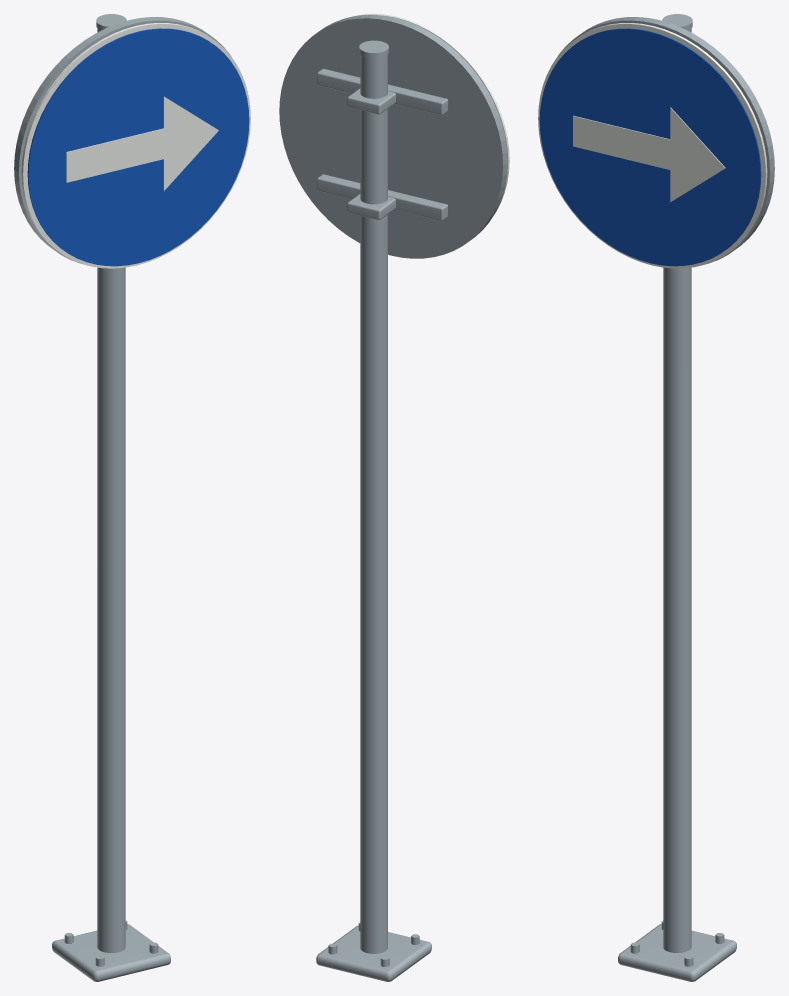
The model's file is DS_Sign_Right.fbx.
3 renders of one model, left to right at view 1: azimuth 30°, elevation 25°; view 2: azimuth 150°, elevation 25°; view 3: azimuth 330°, elevation 25°, orthographic. The views are drawn at different scales.
Visible parts, largest first — view 1: Face_Field.010, Post.010, DirectionArrow.001, BasePlate.010, Face_Border.010, Plate_Back.010; view 2: Plate_Back.010, Post.010, BasePlate.010, RearRail.021, RearRail.020, PostClamp.021, PostClamp.020, Face_Border.010; view 3: Face_Field.010, Post.010, DirectionArrow.001, BasePlate.010, Face_Border.010, Plate_Back.010.
Part boxes in pixels (left/top/right/bottom): Face_Field.010: left=27, top=28, right=249, bottom=266; Post.010: left=97, top=28, right=125, bottom=952; DirectionArrow.001: left=66, top=96, right=218, bottom=190; BasePlate.010: left=52, top=924, right=170, bottom=981; Face_Border.010: left=21, top=23, right=250, bottom=268; Plate_Back.010: left=14, top=17, right=230, bottom=263; Plate_Back.010: left=279, top=15, right=507, bottom=258; Post.010: left=360, top=55, right=387, bottom=953; BasePlate.010: left=316, top=925, right=431, bottom=981; RearRail.021: left=317, top=68, right=448, bottom=115; RearRail.020: left=317, top=174, right=448, bottom=220; PostClamp.021: left=347, top=88, right=395, bottom=114; PostClamp.020: left=347, top=194, right=395, bottom=219; Face_Border.010: left=354, top=14, right=509, bottom=212; Face_Field.010: left=539, top=28, right=761, bottom=266; Post.010: left=663, top=28, right=691, bottom=952; DirectionArrow.001: left=573, top=107, right=725, bottom=202; BasePlate.010: left=618, top=924, right=736, bottom=981; Face_Border.010: left=538, top=23, right=767, bottom=268; Plate_Back.010: left=558, top=17, right=774, bottom=263.
Bounding box in the file's own units: 71 × 281 × 27.9.
